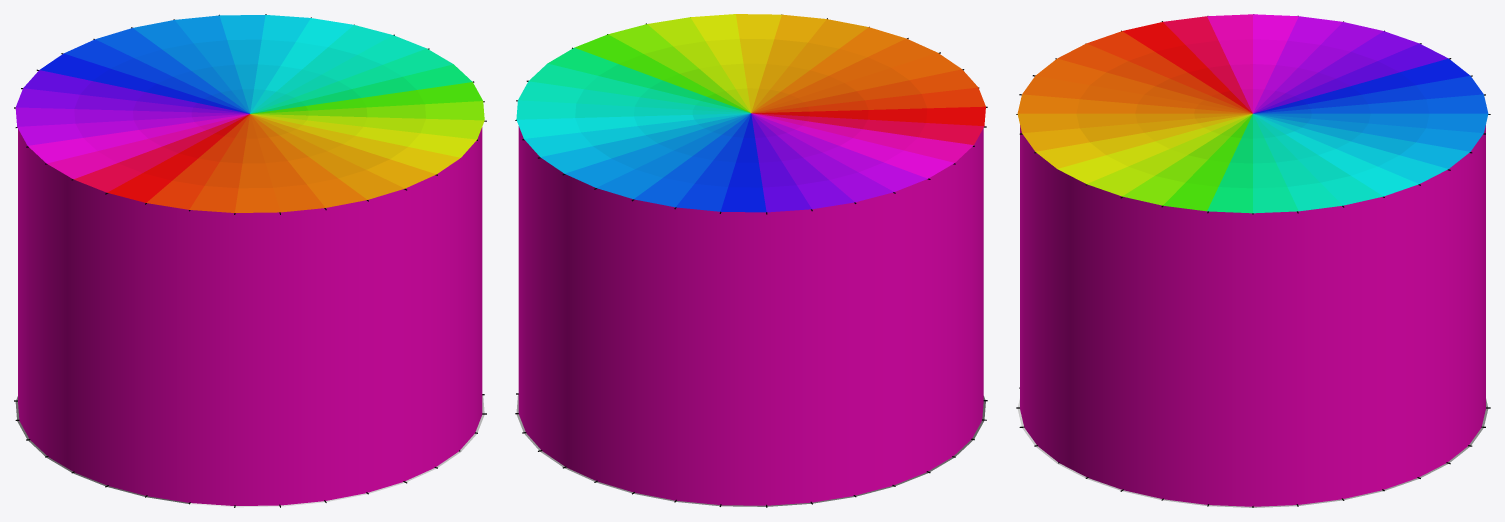
The model's file is Gitter_Karussell_oldversion.fbx.
3 views of the same model, side by side, from view 1: azimuth 30°, elevation 25°; view 2: azimuth 150°, elevation 25°; view 3: azimuth 270°, elevation 25° (orthographic).
Parts seen in each view (by area): view 1: Röhre, oben, unten; view 2: Röhre, oben, unten; view 3: Röhre, oben, unten.
Boxes of the visible parts, x1,y1,x2,y2 form: Röhre: [18, 127, 482, 505]; oben: [15, 14, 484, 212]; unten: [15, 395, 484, 507]; Röhre: [518, 126, 983, 505]; oben: [516, 14, 985, 212]; unten: [516, 394, 985, 506]; Röhre: [1020, 125, 1485, 506]; oben: [1017, 14, 1488, 213]; unten: [1017, 399, 1488, 507].
Size of the model in its own units: 611 by 423 by 614.
